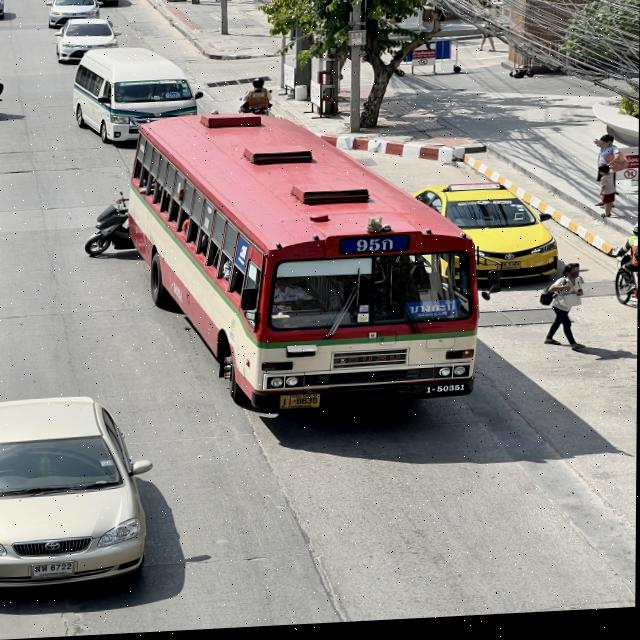BMTA-bus: (120, 105, 483, 425)
Bus-Line-Number: (338, 239, 412, 262)
Destination-Sign-Normal: (406, 304, 461, 324)
